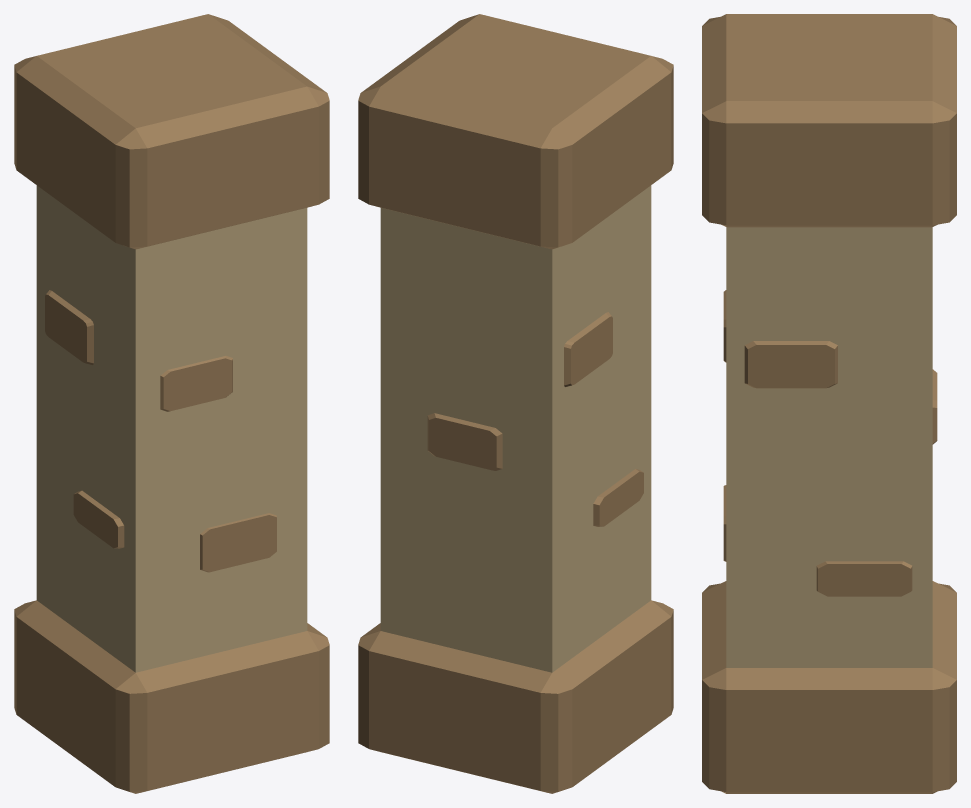
File: FenceStonePillar_01.glb
3 views of the same model, side by side, from view 1: azimuth 30°, elevation 25°; view 2: azimuth 150°, elevation 25°; view 3: azimuth 270°, elevation 25° (orthographic). The views are drawn at different scales.
Parts seen in each view (by area): view 1: FenceStonePillar_01; view 2: FenceStonePillar_01; view 3: FenceStonePillar_01.
Part boxes in pixels (bbox=[...]): FenceStonePillar_01: bbox=[14, 14, 329, 793]; FenceStonePillar_01: bbox=[358, 14, 673, 793]; FenceStonePillar_01: bbox=[702, 14, 956, 793].
Size of what is drawn, in the model's own units: 0.4715 by 1.42 by 0.4715.
1 material, 1 textured.
